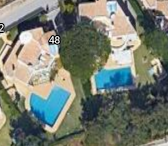pool: (31, 91, 64, 122), (97, 70, 131, 88)
